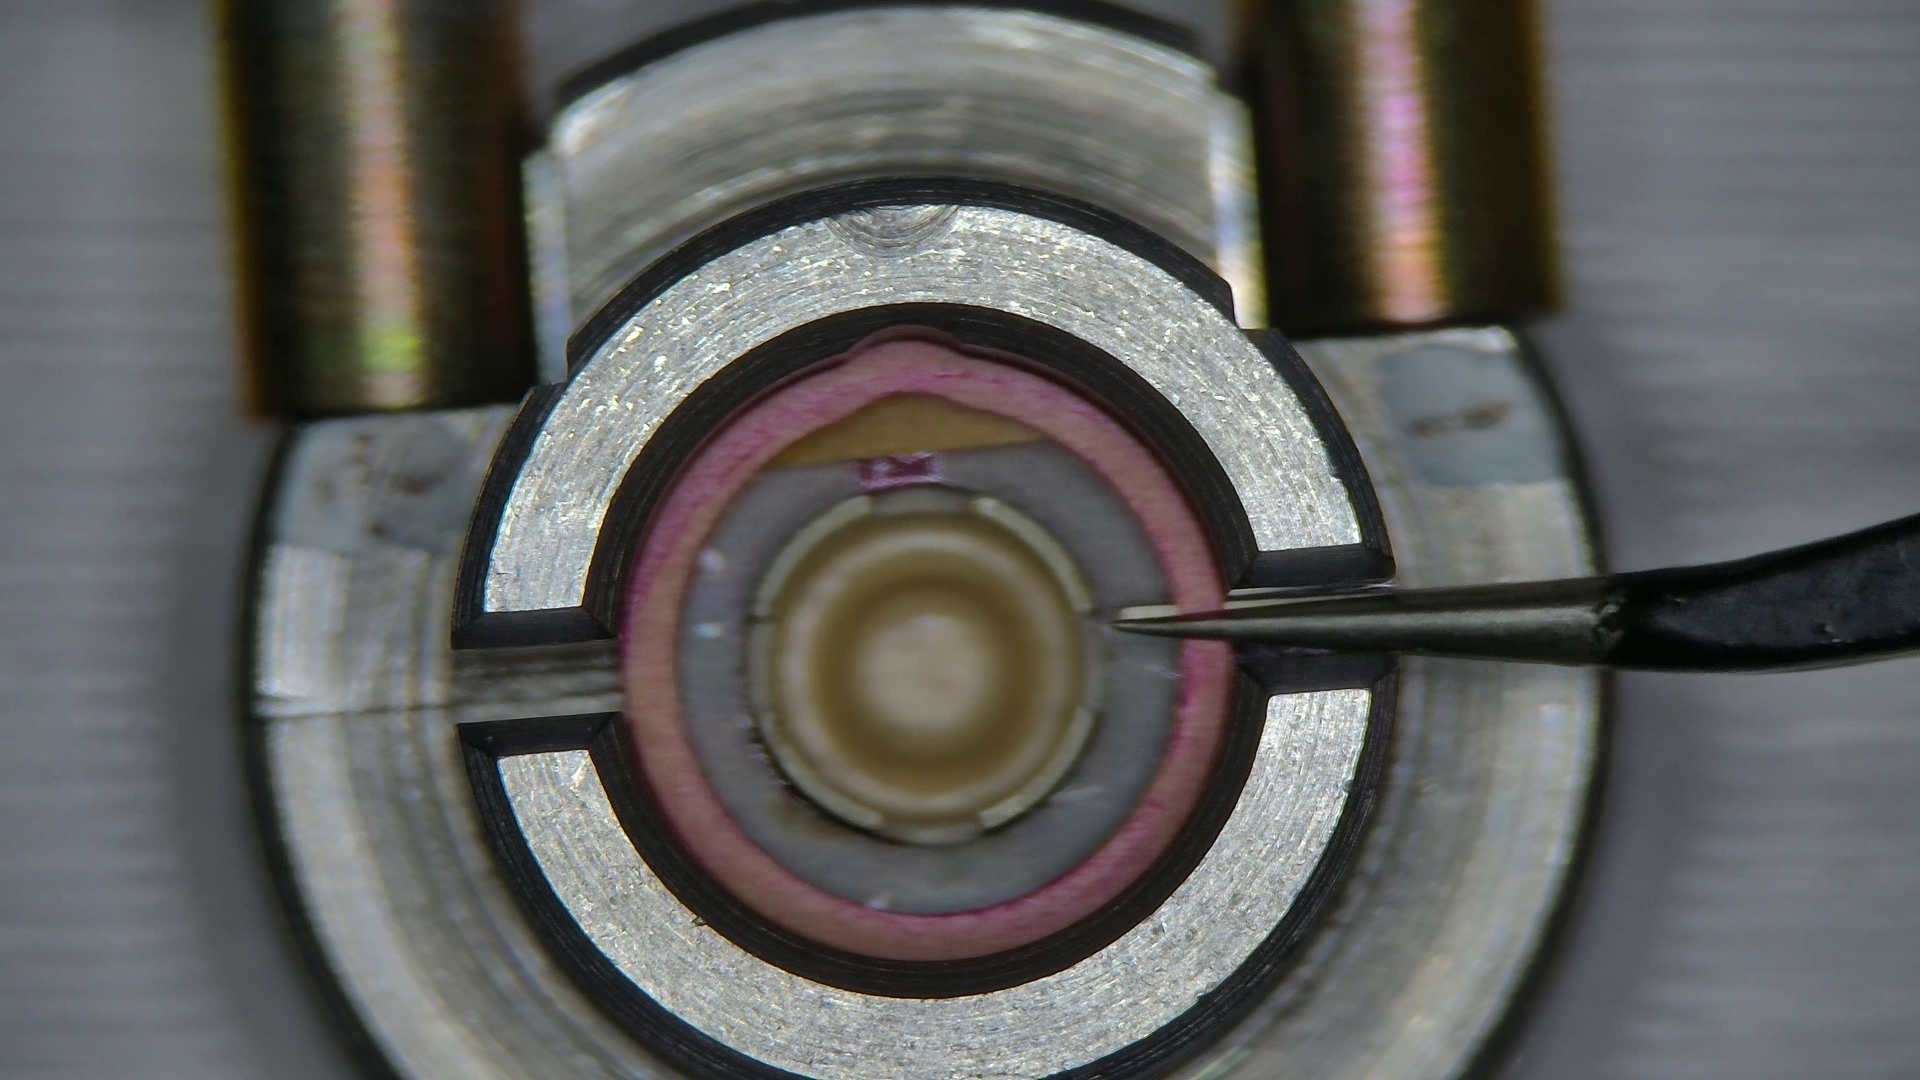GreyOring: (624, 339, 1226, 960)
YellowOring: (680, 448, 1176, 913)
redOring: (767, 397, 1048, 459)
